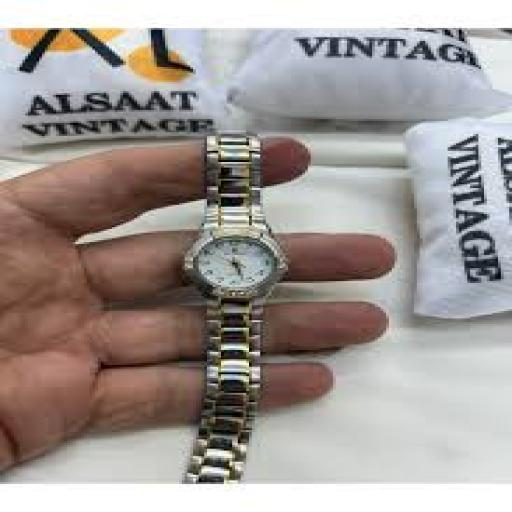KolSaati: (79, 112, 367, 478)
